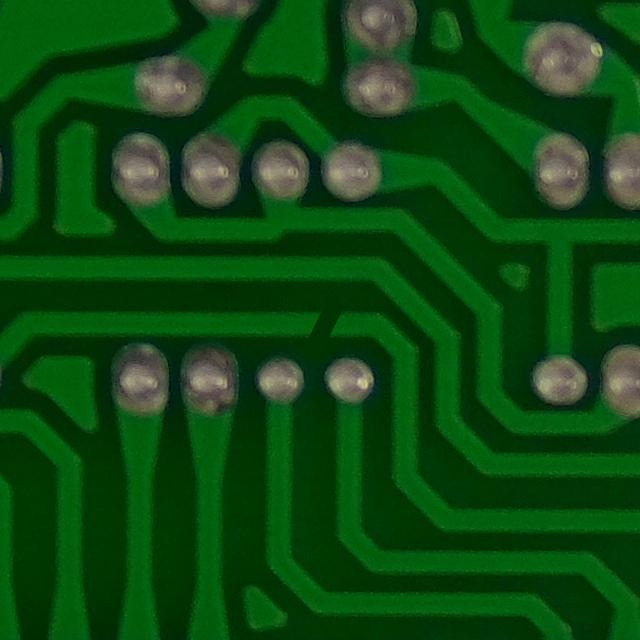open_circuit: (295, 293, 346, 348)
